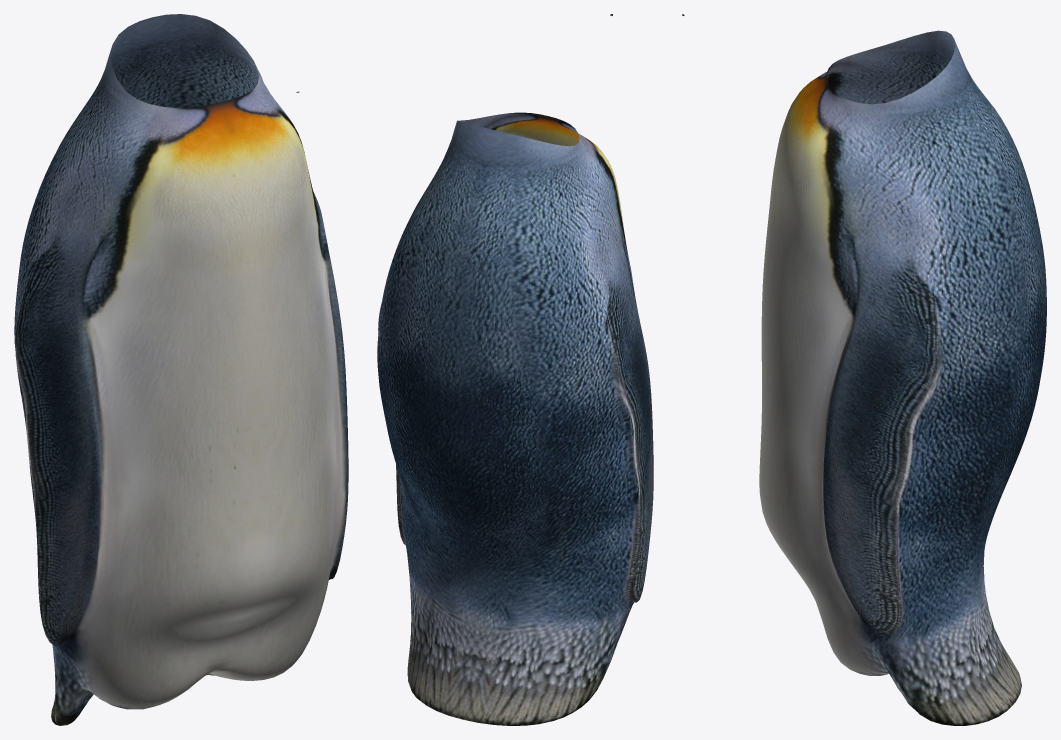
File: cuerpoPin.obj
3 views of the same model, side by side, from view 1: azimuth 30°, elevation 25°; view 2: azimuth 150°, elevation 25°; view 3: azimuth 270°, elevation 25° (orthographic). The views are drawn at different scales.
Visible parts, largest first — view 1: 10033_Penguin_v1_iterations-2; view 2: 10033_Penguin_v1_iterations-2; view 3: 10033_Penguin_v1_iterations-2.
Part boxes in pixels (x1,y1,x2,y2): 10033_Penguin_v1_iterations-2: (14,14,348,725); 10033_Penguin_v1_iterations-2: (377,14,653,725); 10033_Penguin_v1_iterations-2: (682,14,1046,725).
Size of the model in its own units: 0.1301 by 0.2998 by 0.1473.
Materials: 1 (1 with a texture image).
